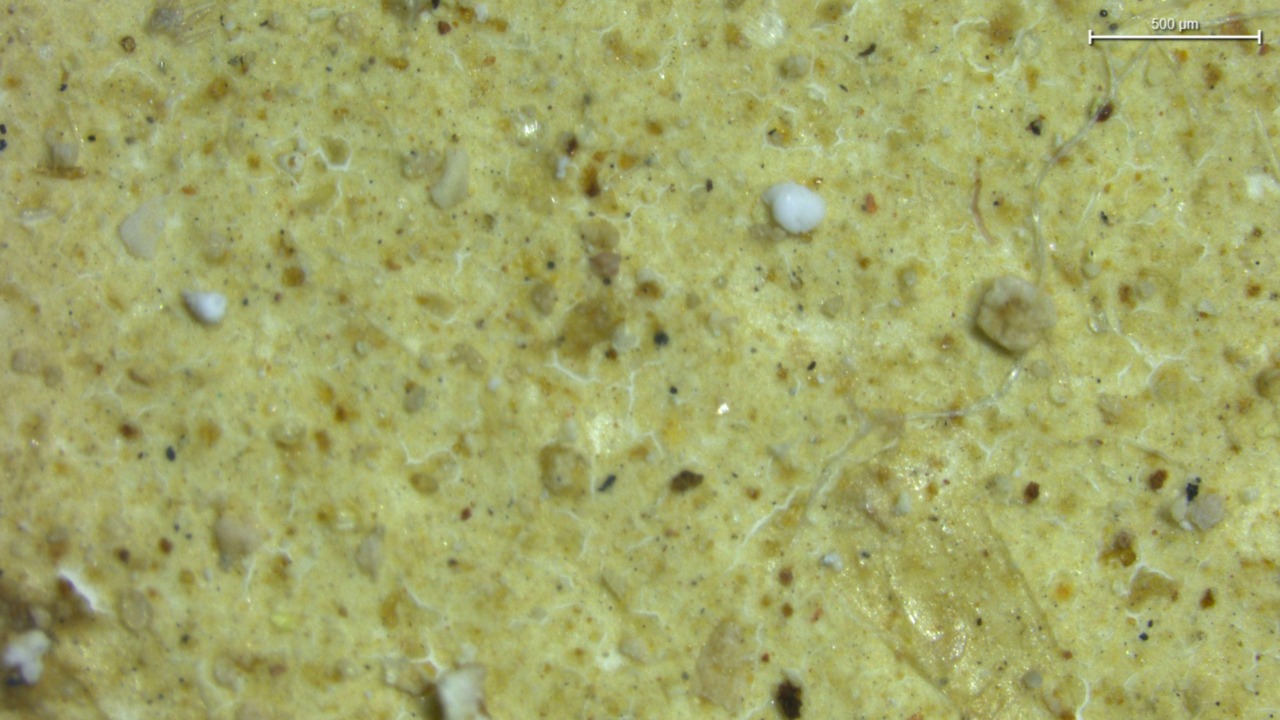microplastic_fragment: (975, 276, 1057, 355), (762, 181, 825, 234), (182, 290, 227, 324)
